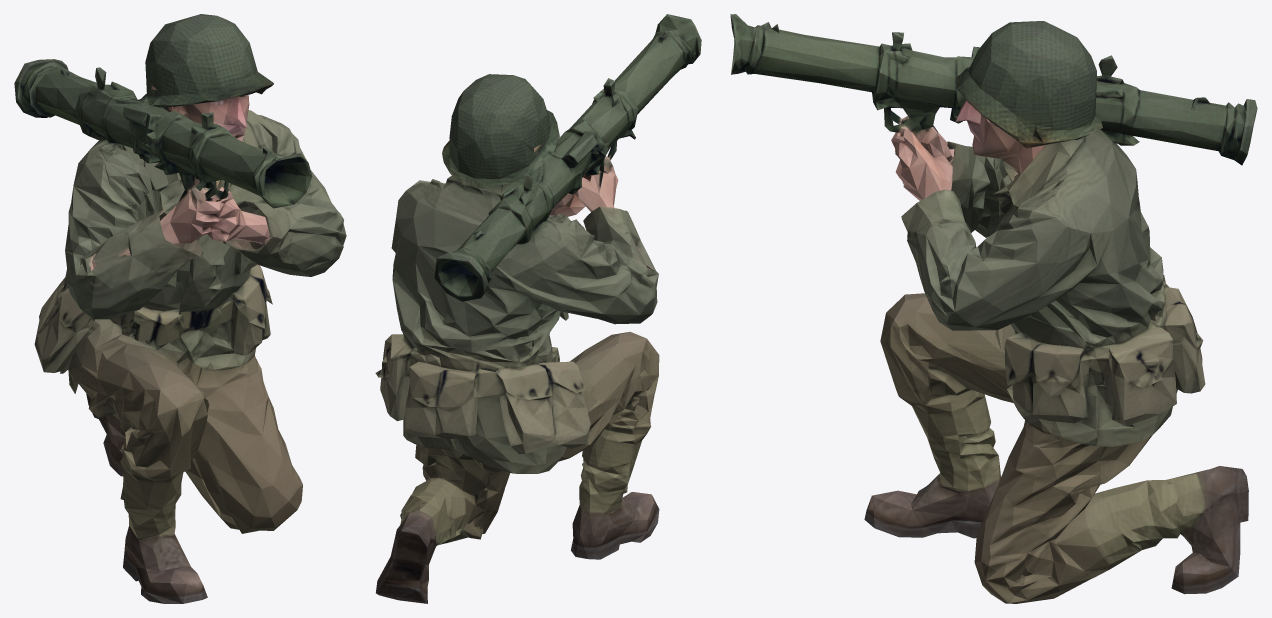
File: ally_us_bazooka.obj
The picture shows the model from 3 angles, left to right: view 1: azimuth 30°, elevation 25°; view 2: azimuth 150°, elevation 25°; view 3: azimuth 270°, elevation 25°; orthographic projection. The views are drawn at different scales.
Parts seen in each view (by area): view 1: ally_us_bazooka; view 2: ally_us_bazooka; view 3: ally_us_bazooka.
Part boxes in pixels (x1,y1,x2,y2): ally_us_bazooka: [14, 14, 346, 603]; ally_us_bazooka: [375, 14, 701, 603]; ally_us_bazooka: [730, 14, 1257, 603].
Bounding box in the file's own units: 0.6819 × 1.3 × 1.14.
Materials: 1 (1 with a texture image).
